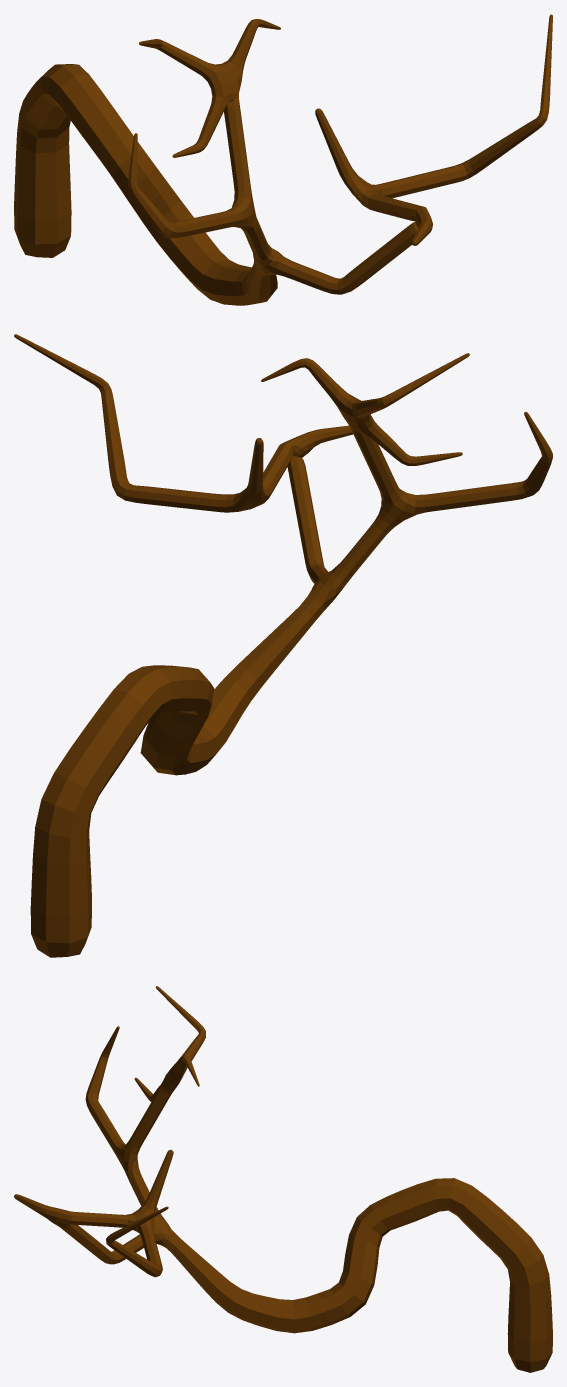
Rendered from Tree2.obj.
3 views of the same model, one above another, from view 1: azimuth 30°, elevation 25°; view 2: azimuth 150°, elevation 25°; view 3: azimuth 270°, elevation 25° (orthographic). The views are drawn at different scales.
Visible parts, largest first — view 1: Cube; view 2: Cube; view 3: Cube.
Boxes of the visible parts, x1,y1,x2,y2 form: Cube: (14,14,552,305); Cube: (14,334,552,957); Cube: (14,986,552,1372).
Size of the model in its own units: 3.59 by 3.14 by 4.63.
1 material, 1 textured.
